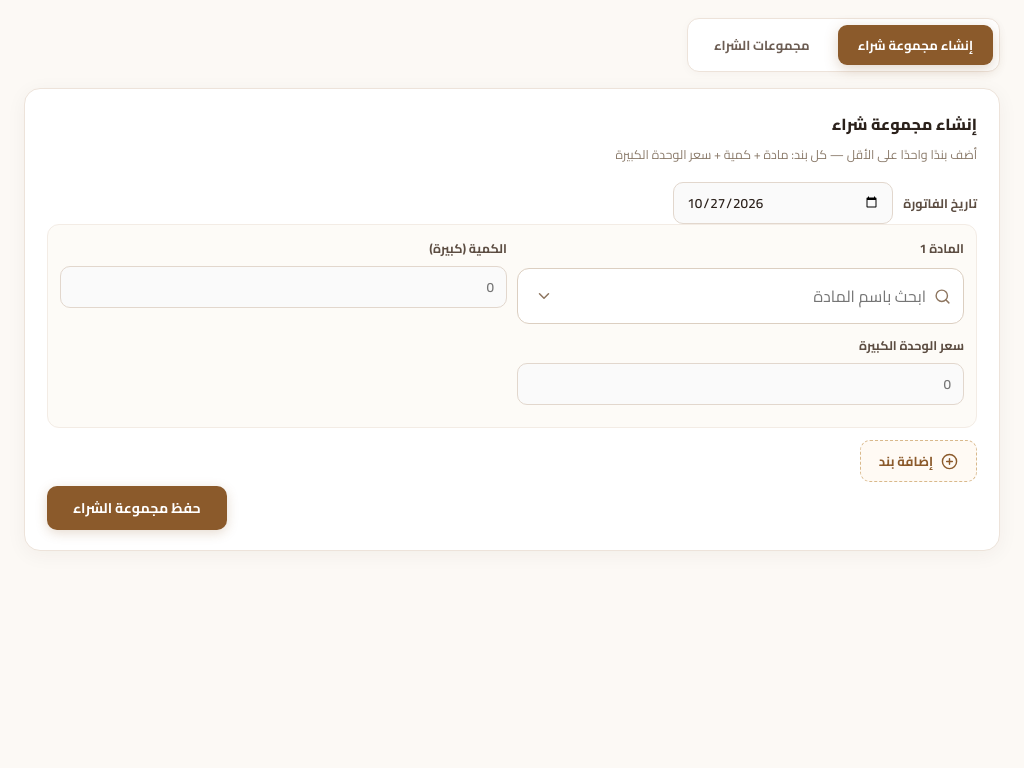
Scenario: purchases page on the v1 layer › renders server groups with tabs and create form, no legacy invoice UI
Step 1. Click the tab "مجموعات الشراء" → (762, 45), box x1=694 y1=25 x2=830 y2=65
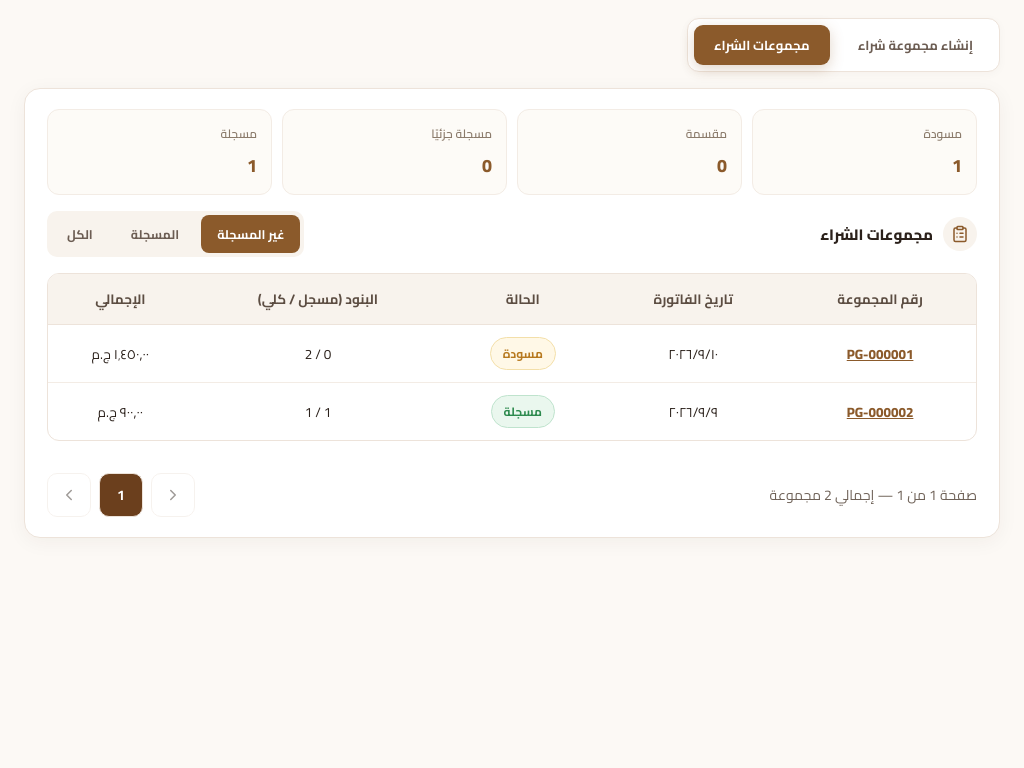
Expected: the button "PG-000001" is shown, x1=847 y1=340 x2=913 y2=366
Expected: the button "PG-000002" is shown, x1=847 y1=398 x2=913 y2=424
